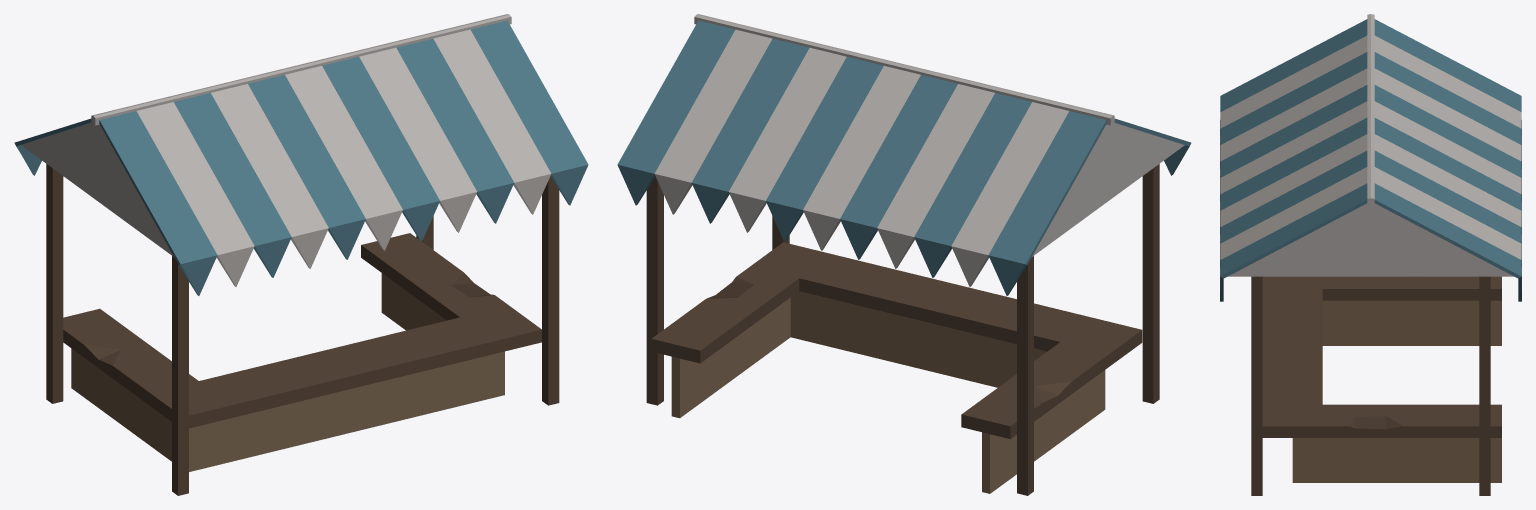
The model's file is SM_Bldg_Farm_Stall_03.fbx.
3 views of the same model, side by side, from view 1: azimuth 30°, elevation 25°; view 2: azimuth 150°, elevation 25°; view 3: azimuth 270°, elevation 25° (orthographic). The views are drawn at different scales.
Visible parts, largest first — view 1: SM_Bldg_Farm_Stall_03; view 2: SM_Bldg_Farm_Stall_03; view 3: SM_Bldg_Farm_Stall_03.
Part boxes in pixels (x1,y1,x2,y2): SM_Bldg_Farm_Stall_03: (14,14,588,495); SM_Bldg_Farm_Stall_03: (617,14,1191,495); SM_Bldg_Farm_Stall_03: (1220,14,1521,495).
Bounding box in the file's own units: 510 × 395 × 353.
